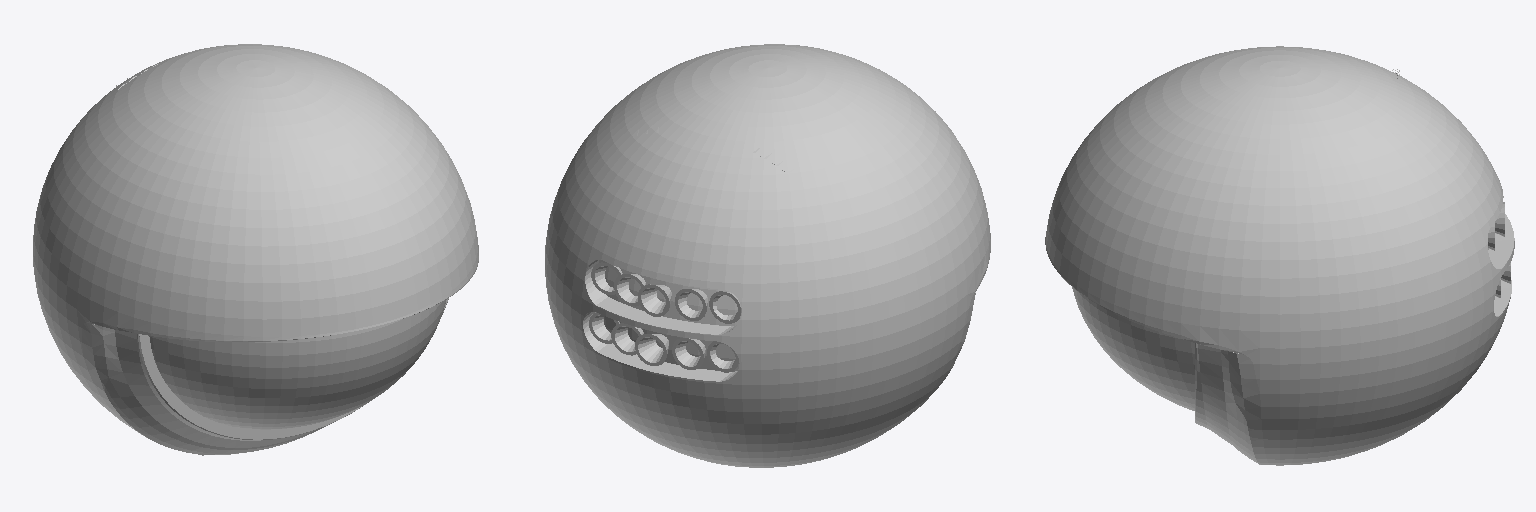
Rendered from vrag 2.obj.
The picture shows the model from 3 angles: view 1: azimuth 30°, elevation 25°; view 2: azimuth 150°, elevation 25°; view 3: azimuth 270°, elevation 25°; orthographic projection.
Visible parts, largest first — view 1: polySurface13; view 2: polySurface13; view 3: polySurface13.
Part boxes in pixels (bbox=[...]): polySurface13: bbox=[33, 44, 478, 455]; polySurface13: bbox=[545, 44, 990, 467]; polySurface13: bbox=[1045, 46, 1514, 465].
Size of the model in its own units: 0.9501 by 0.8997 by 1.02.